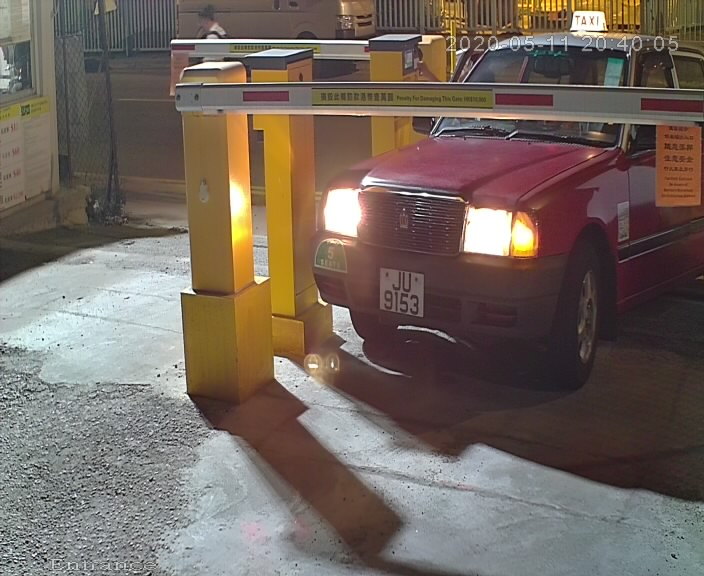taxi: (297, 1, 704, 389)
taxi_mark: (305, 231, 362, 292)
